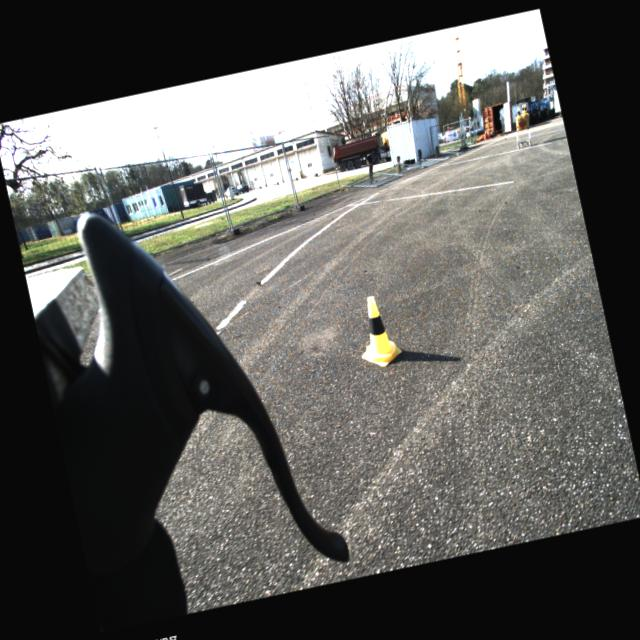yellow_cone: (349, 292, 404, 370), (514, 107, 521, 118), (522, 104, 528, 114), (520, 104, 526, 114)
